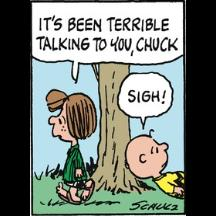charlie: (125, 128, 187, 200)
